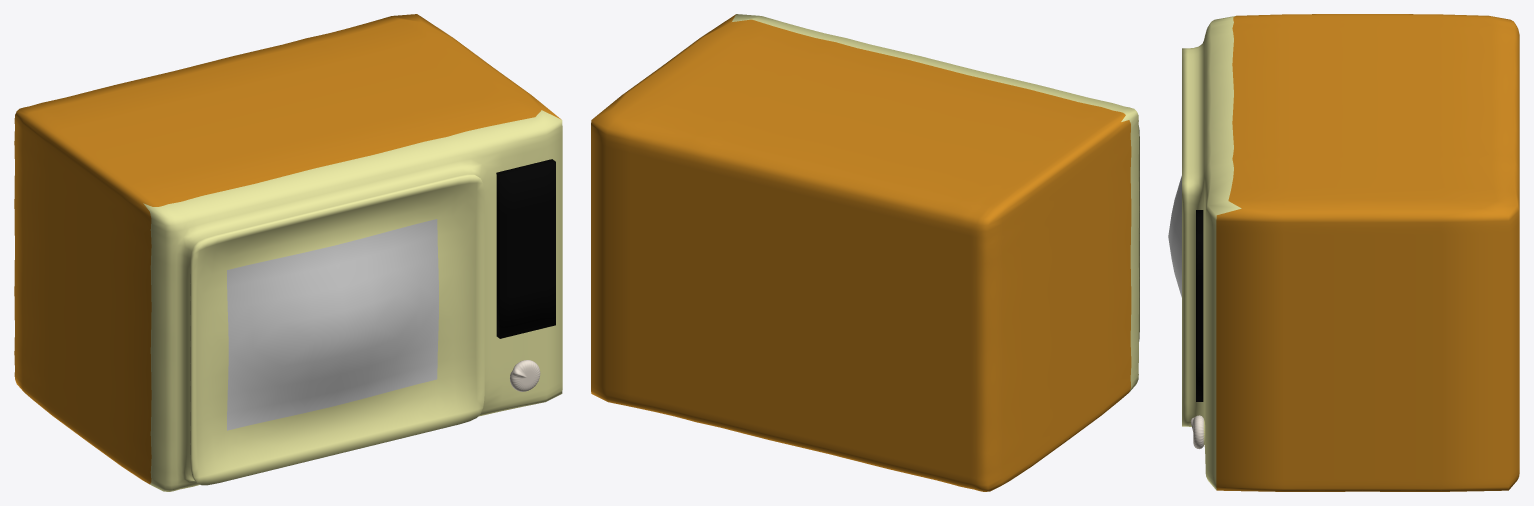
3 renders of one model, left to right at view 1: azimuth 30°, elevation 25°; view 2: azimuth 150°, elevation 25°; view 3: azimuth 270°, elevation 25°, orthographic.
Visible parts, largest first — view 1: Куб; view 2: Куб; view 3: Куб.
Part boxes in pixels (x1,y1,x2,y2): Куб: (14, 14, 562, 491); Куб: (591, 14, 1139, 491); Куб: (1168, 14, 1519, 491).
Size of the model in its own units: 910 by 603 by 675.
